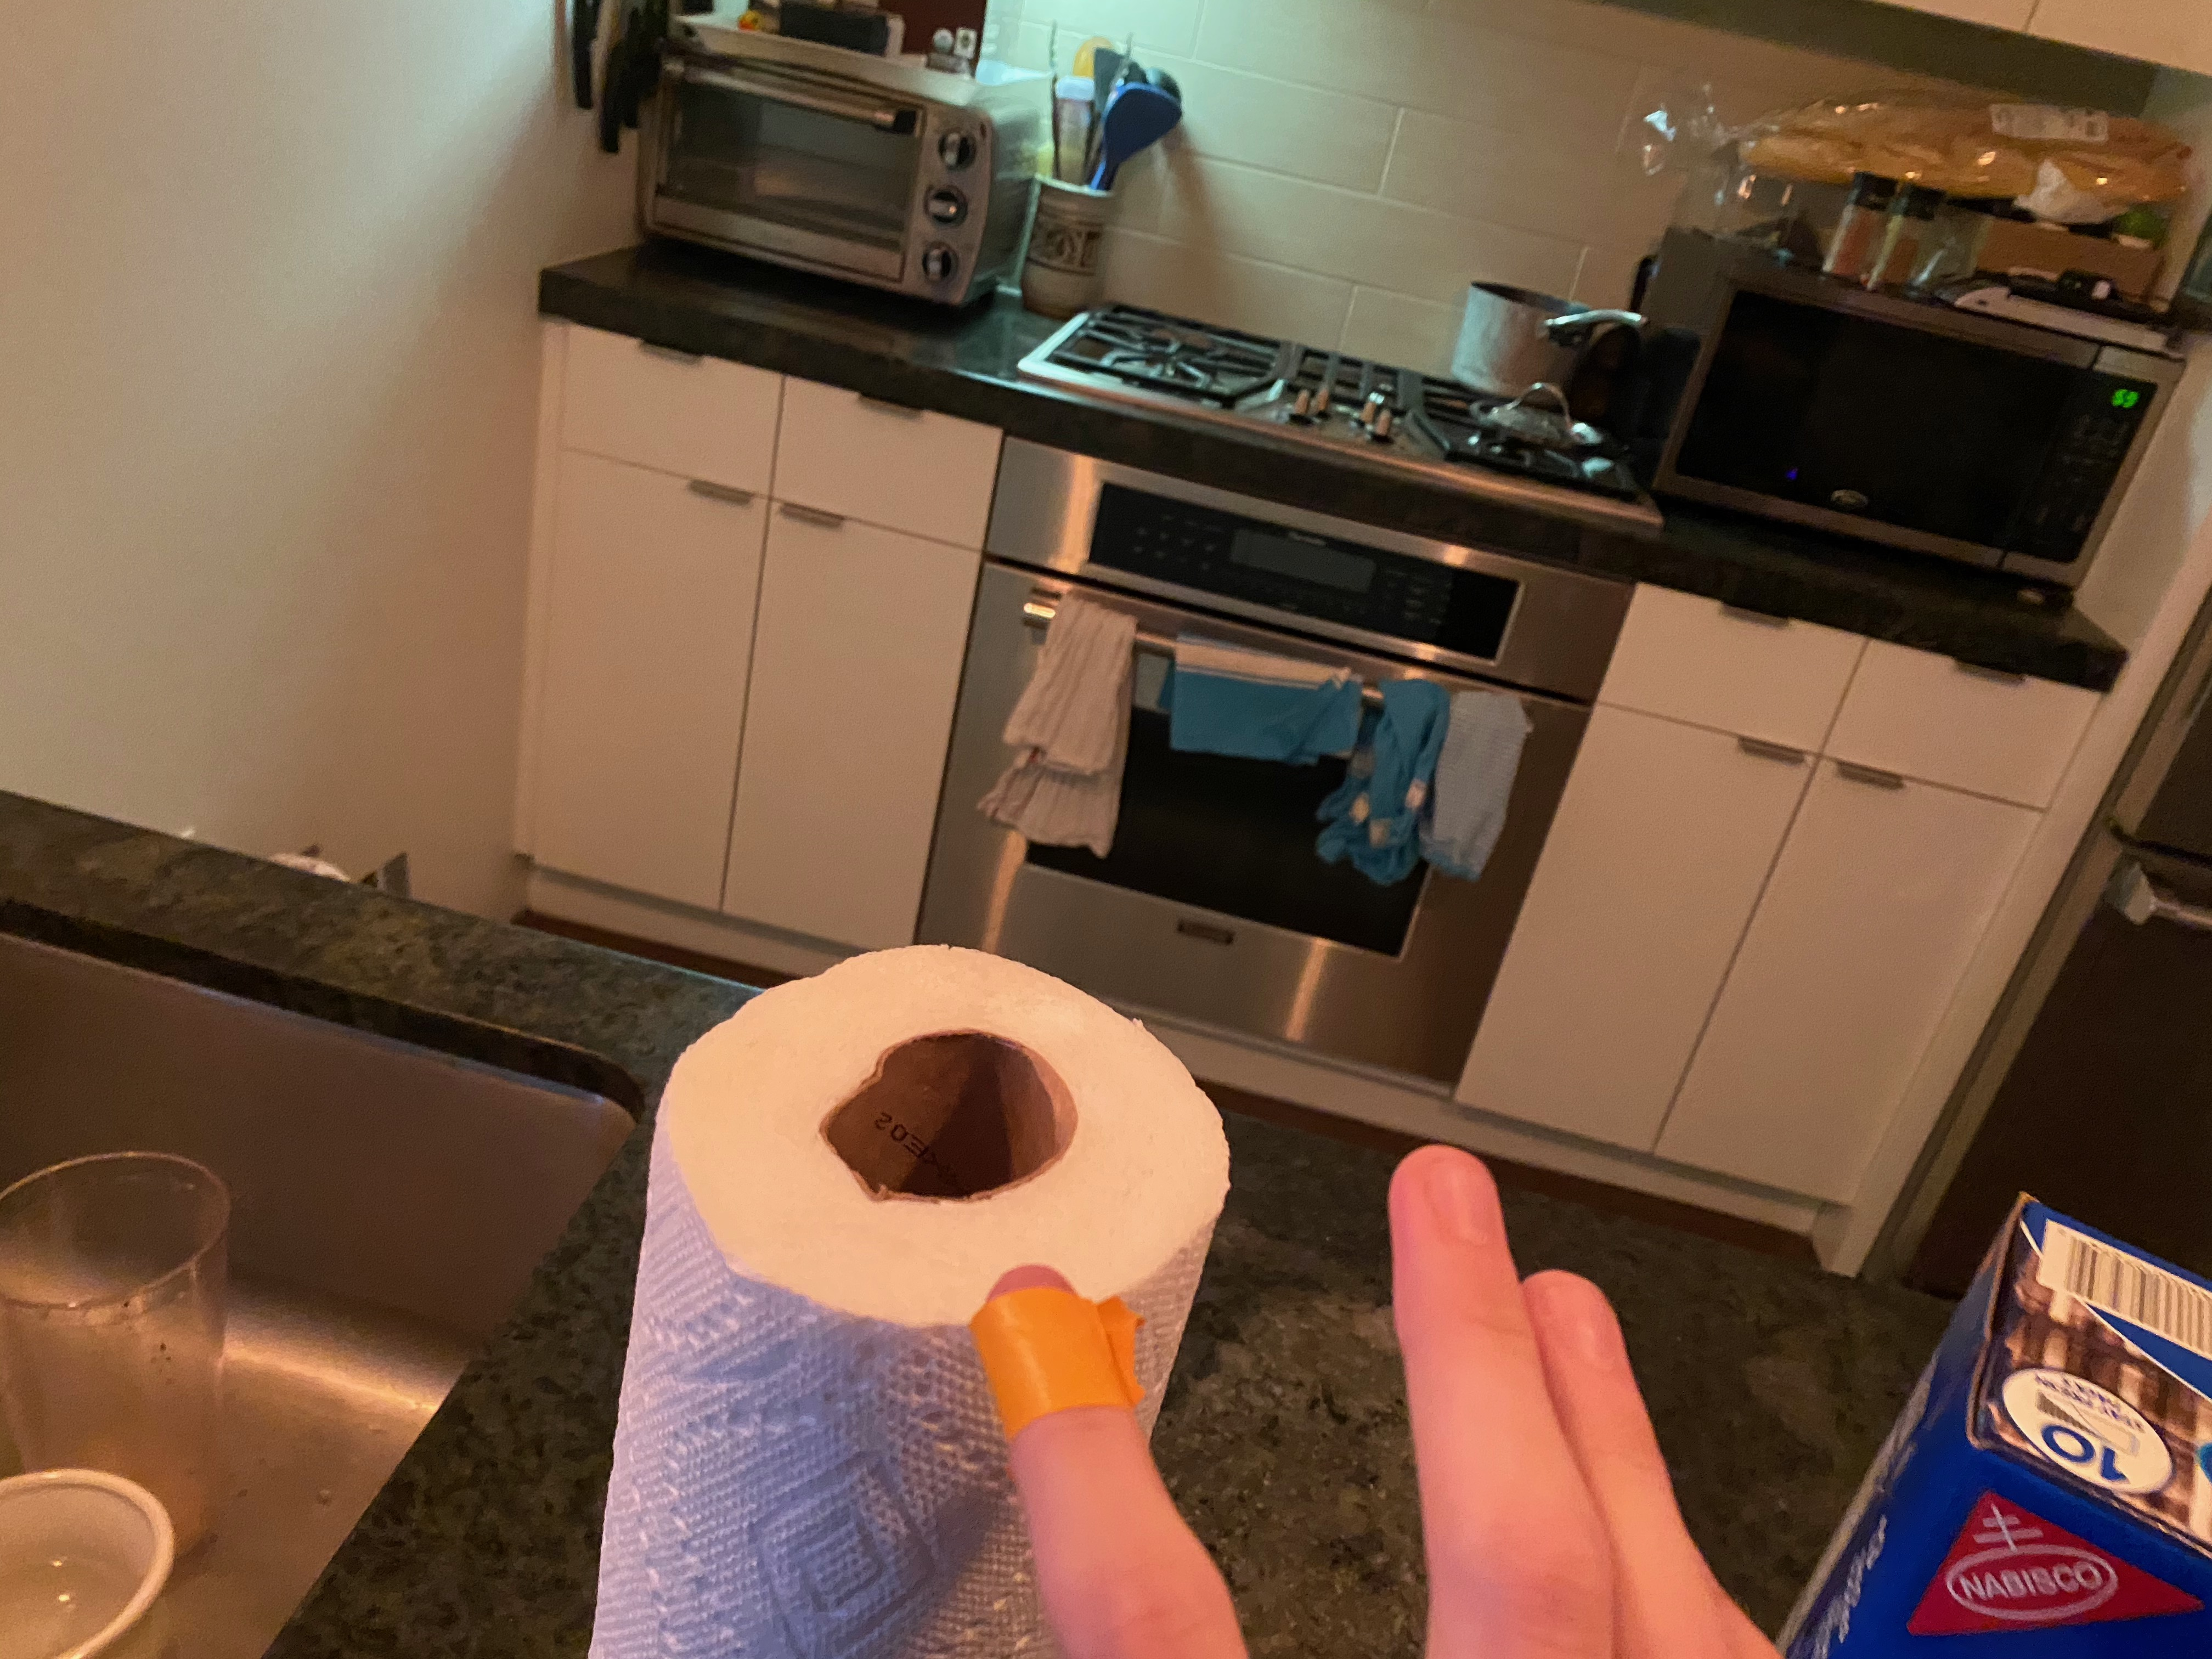fingertip: (942, 1251, 1181, 1486)
